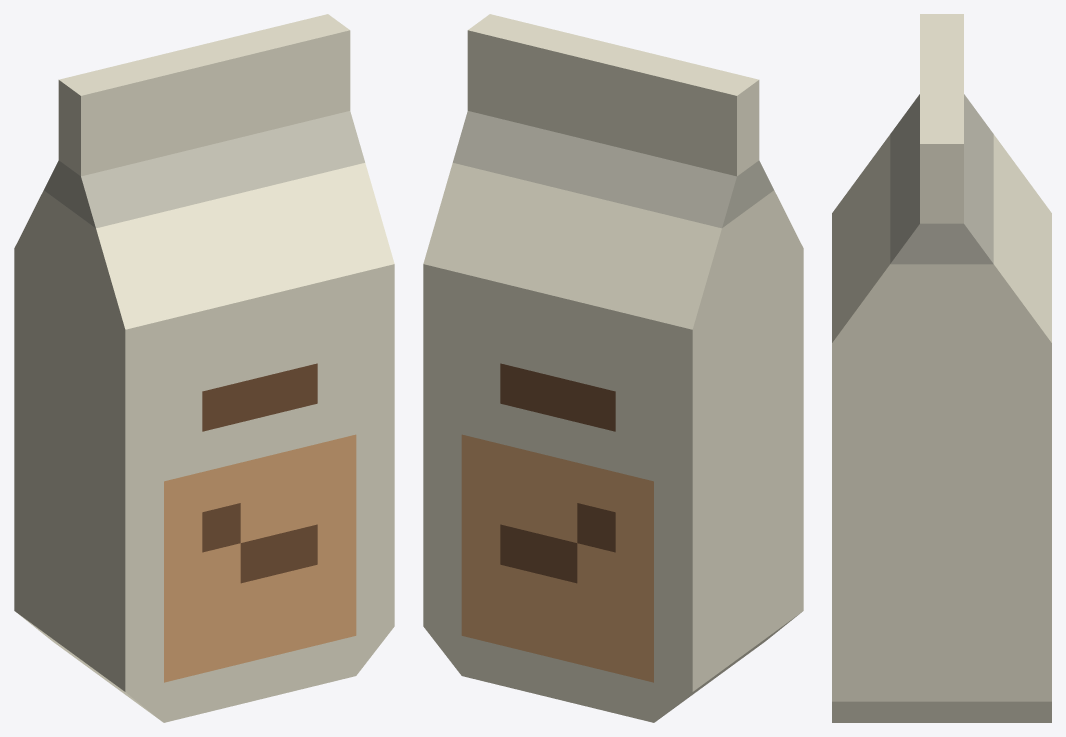
File: Bag1.fbx
The picture shows the model from 3 angles, left to right: view 1: azimuth 30°, elevation 25°; view 2: azimuth 150°, elevation 25°; view 3: azimuth 270°, elevation 25°; orthographic projection.
Visible parts, largest first — view 1: Cube.017; view 2: Cube.017; view 3: Cube.017.
Part boxes in pixels (x1,y1,x2,y2): Cube.017: (14,14,394,722); Cube.017: (423,14,803,722); Cube.017: (832,14,1051,722).
Bounding box in the file's own units: 70 × 150 × 50.
